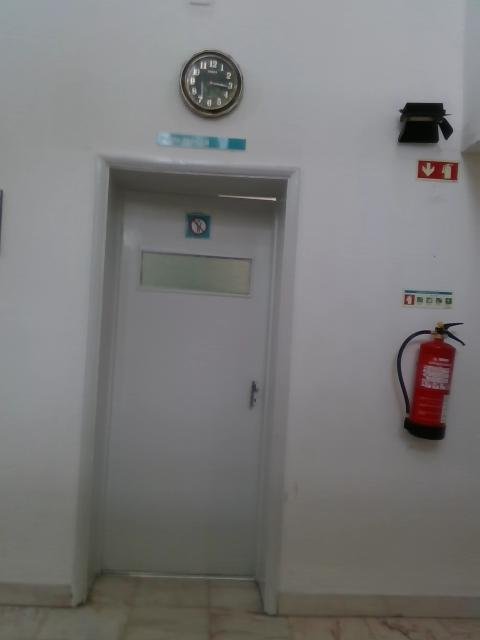door: (96, 190, 275, 578)
